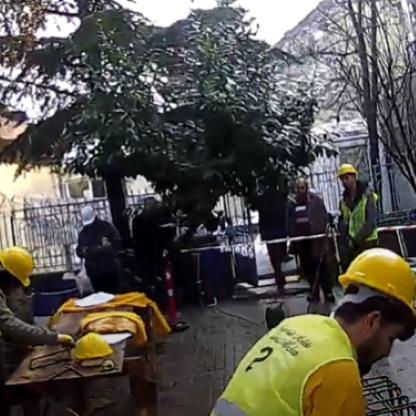helmet: (332, 242, 415, 371), (0, 243, 30, 305), (331, 160, 361, 190)
